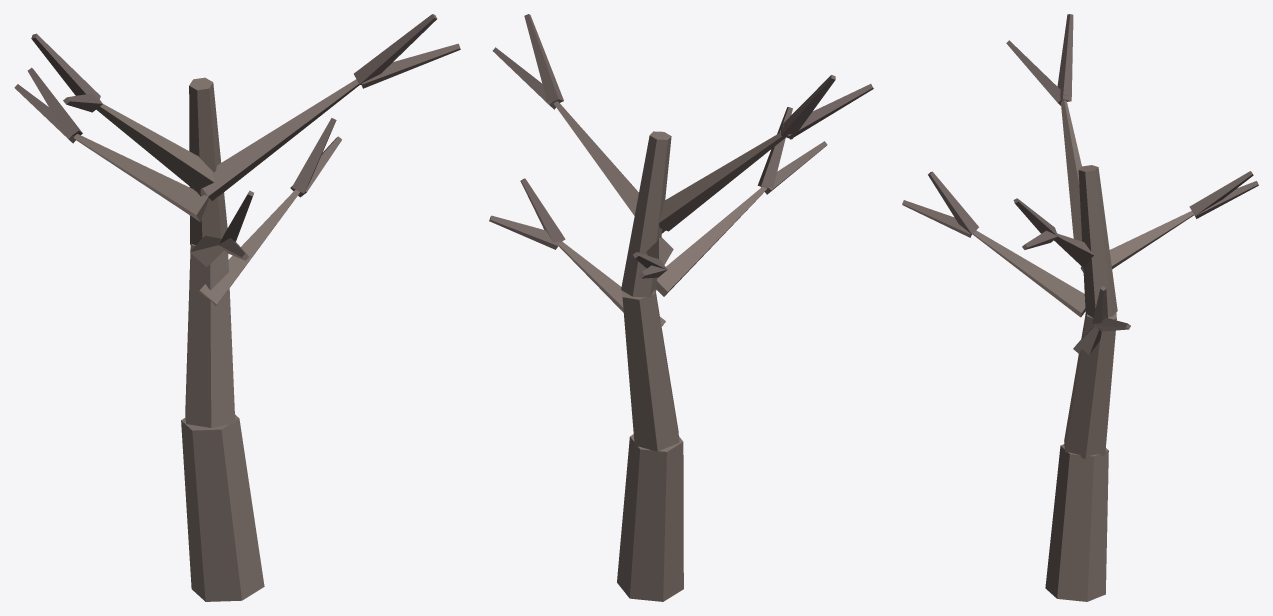
File: tree_dead_2.glb
3 views of the same model, side by side, from view 1: azimuth 30°, elevation 25°; view 2: azimuth 150°, elevation 25°; view 3: azimuth 270°, elevation 25° (orthographic). The views are drawn at different scales.
Parts seen in each view (by area): view 1: tronco, ramitas; view 2: tronco, ramitas; view 3: tronco, ramitas.
Boxes of the visible parts, bbox=[...] form: tronco: bbox=[73, 77, 359, 601]; ramitas: bbox=[14, 14, 460, 260]; tronco: bbox=[553, 101, 785, 601]; ramitas: bbox=[489, 14, 873, 278]; tronco: bbox=[972, 100, 1193, 601]; ramitas: bbox=[902, 14, 1258, 331].
Size of the model in its own units: 1.9 by 2.72 by 1.75.
